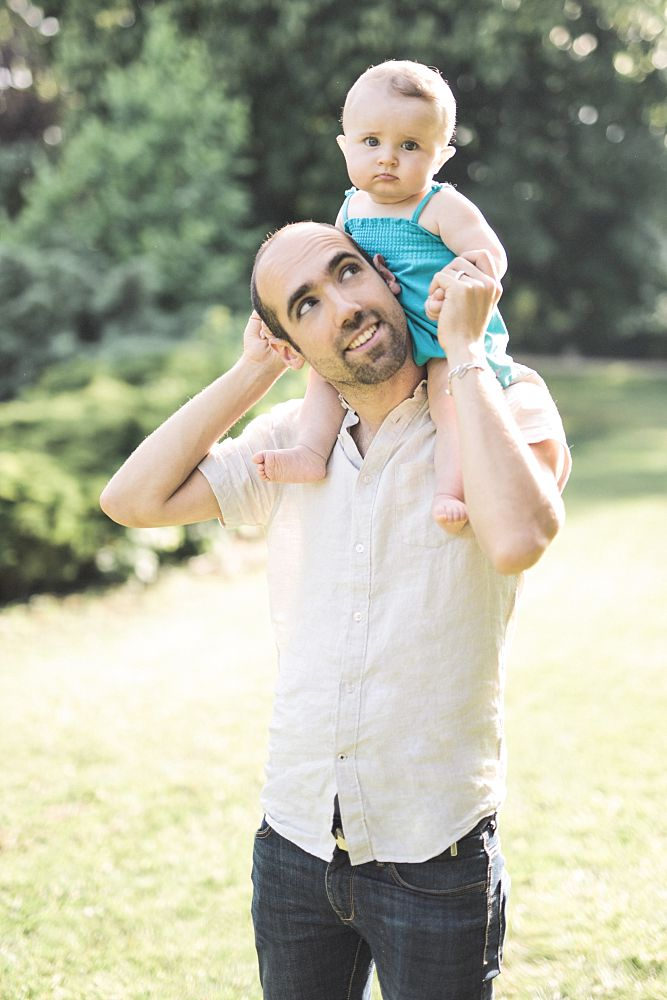without_mask: (266, 230, 416, 384), (338, 75, 447, 218)
